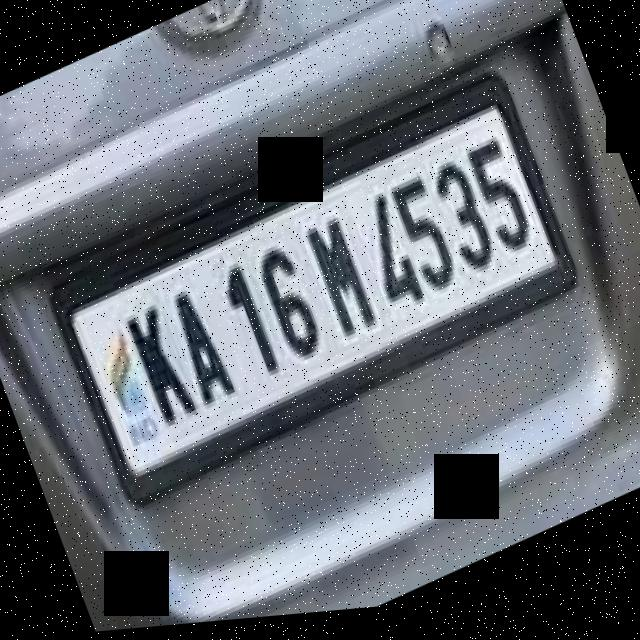1: (210, 251, 290, 397)
3: (423, 149, 504, 287)
4: (346, 185, 431, 334)
5: (460, 132, 542, 274), (386, 171, 466, 312)
6: (250, 237, 329, 375)
A: (162, 278, 240, 419)
K: (118, 294, 202, 437)
M: (295, 204, 385, 357)
